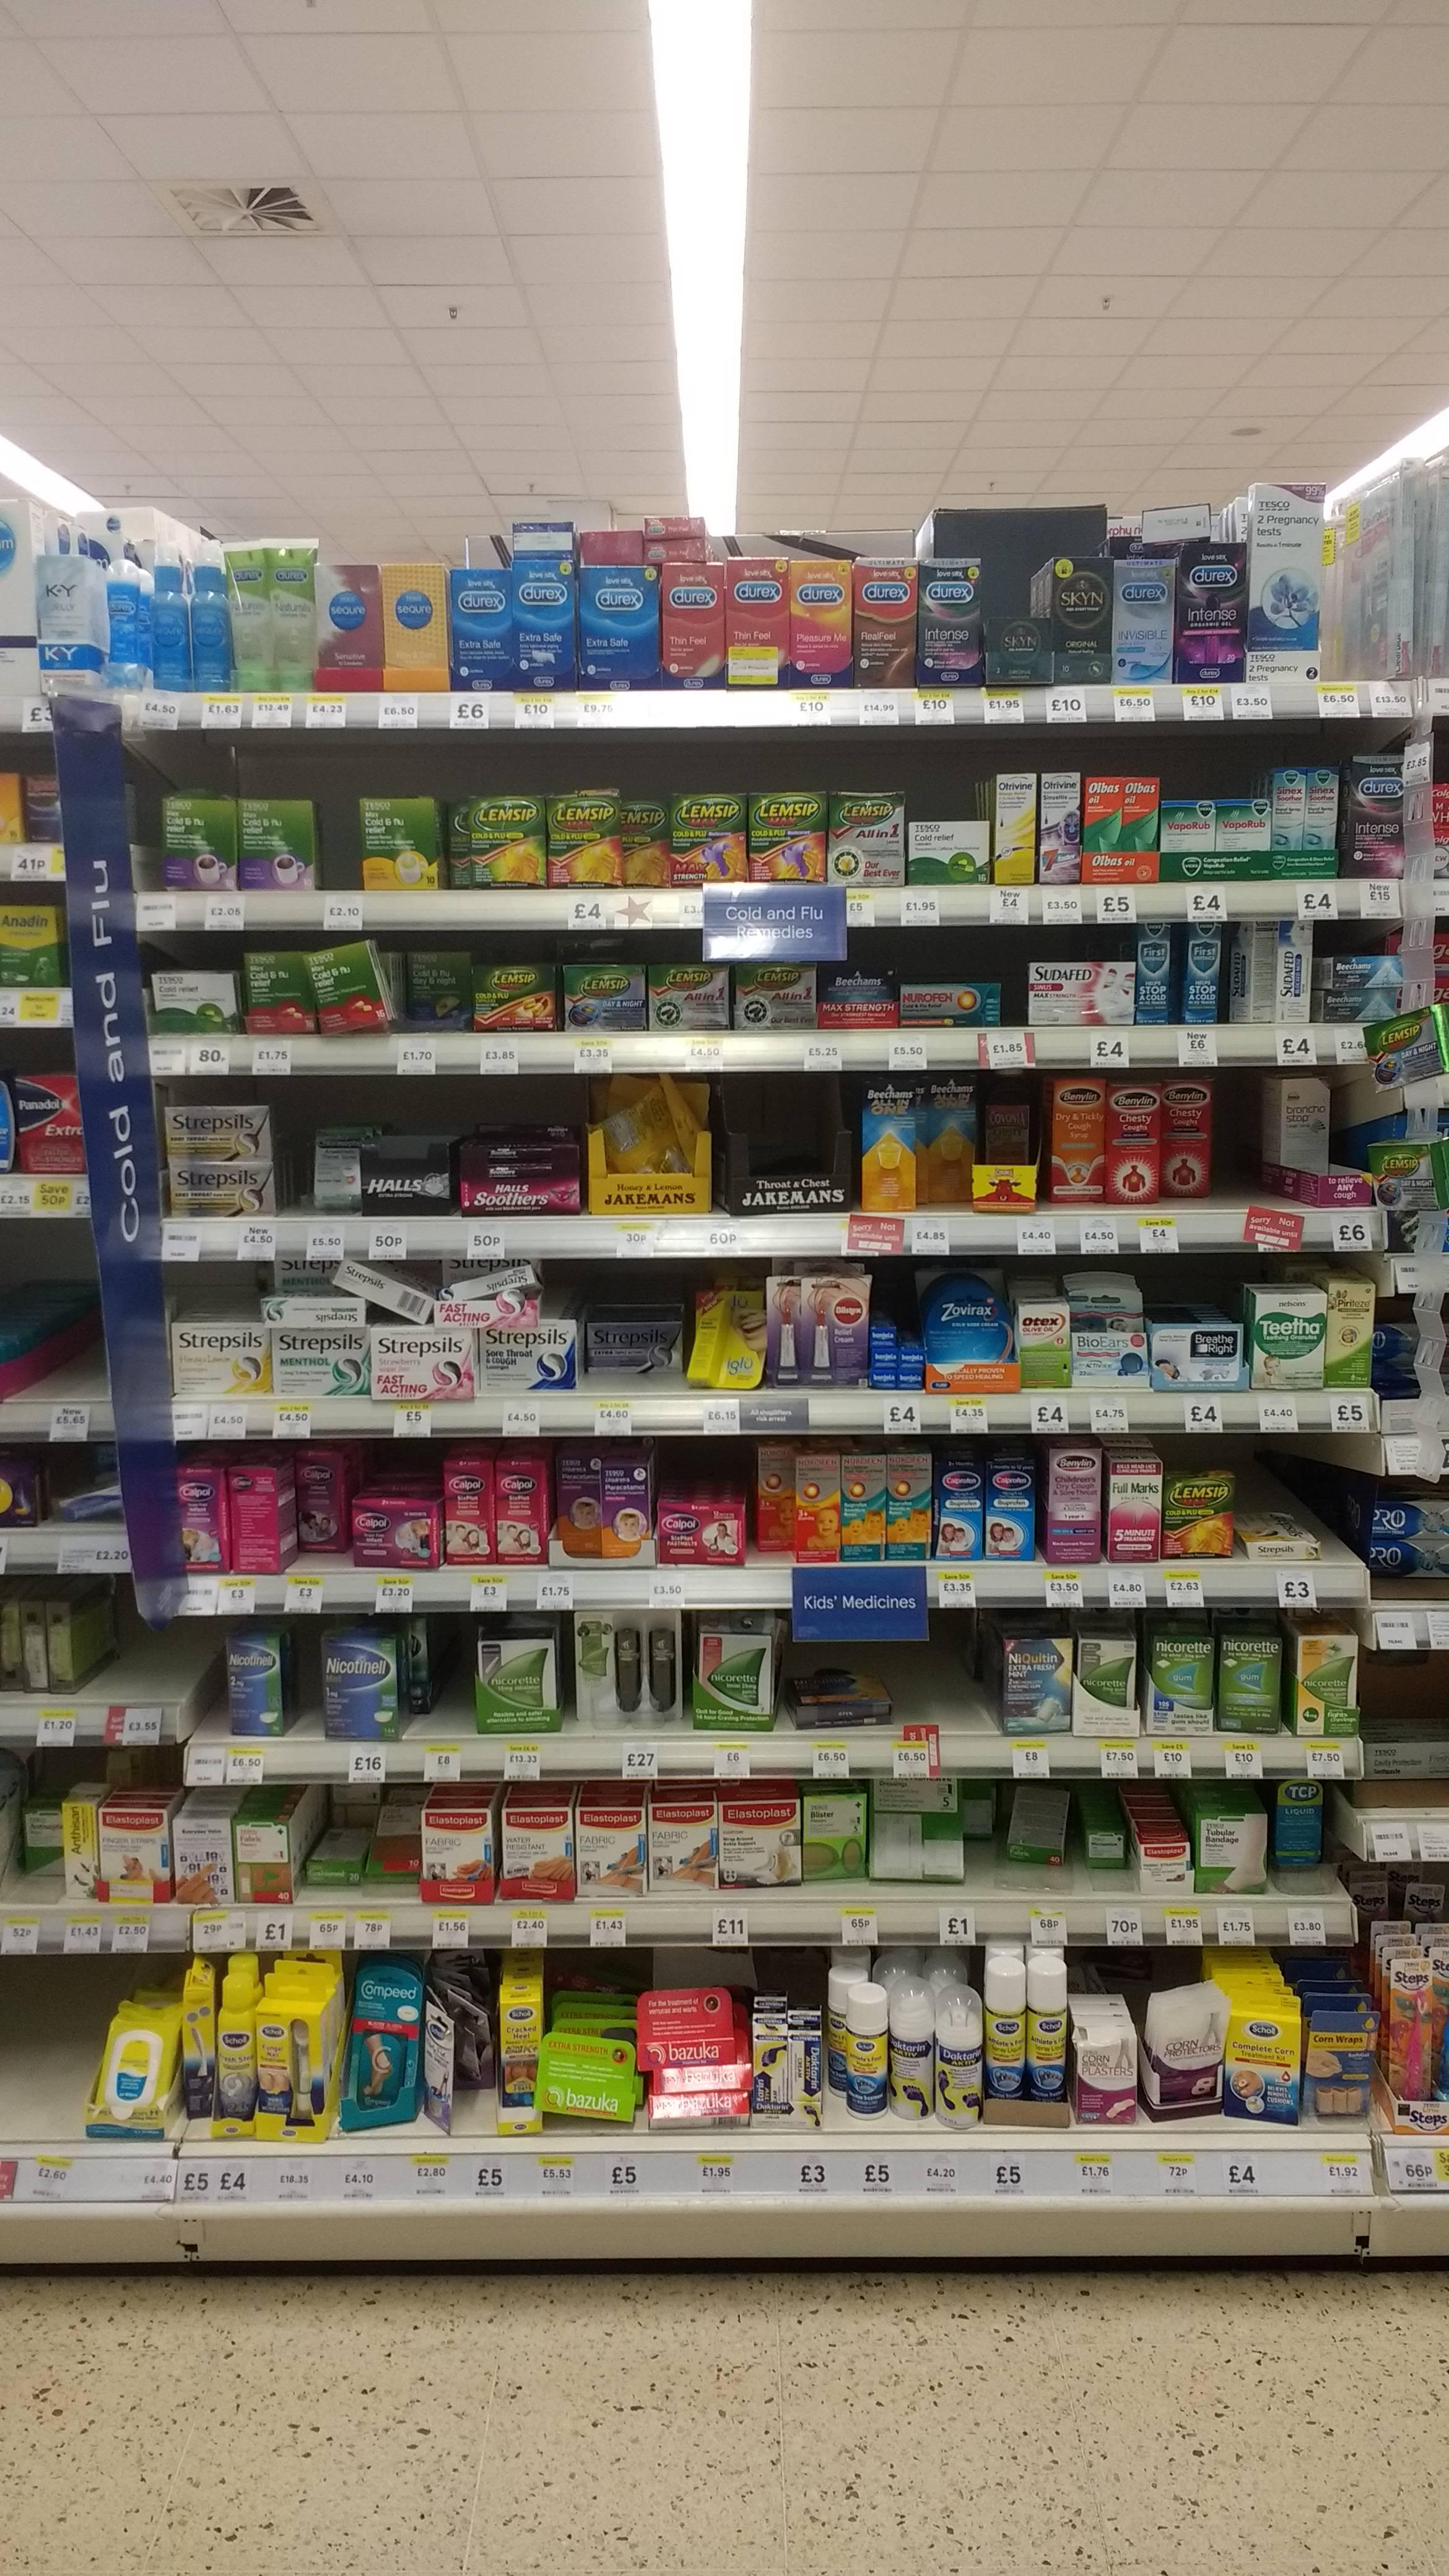misalignment: (267, 1261, 552, 1325), (863, 1771, 970, 1888), (1146, 1974, 1217, 2128), (534, 2031, 635, 2128), (780, 1660, 916, 1730), (685, 1281, 761, 1396), (1235, 1493, 1339, 1571), (313, 932, 396, 1030), (998, 1775, 1067, 1881), (423, 2005, 469, 2141), (366, 1789, 423, 1893), (306, 1810, 361, 1897), (1231, 925, 1279, 1021), (1086, 1813, 1138, 1886)
